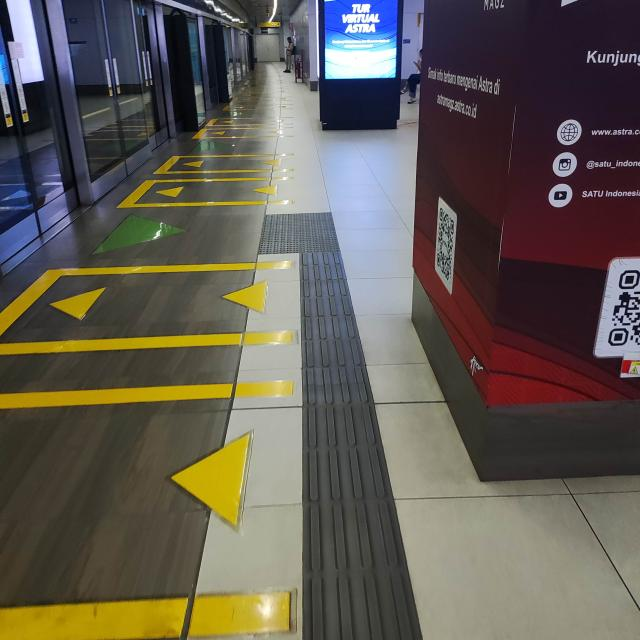lurus: (293, 245, 404, 640)
